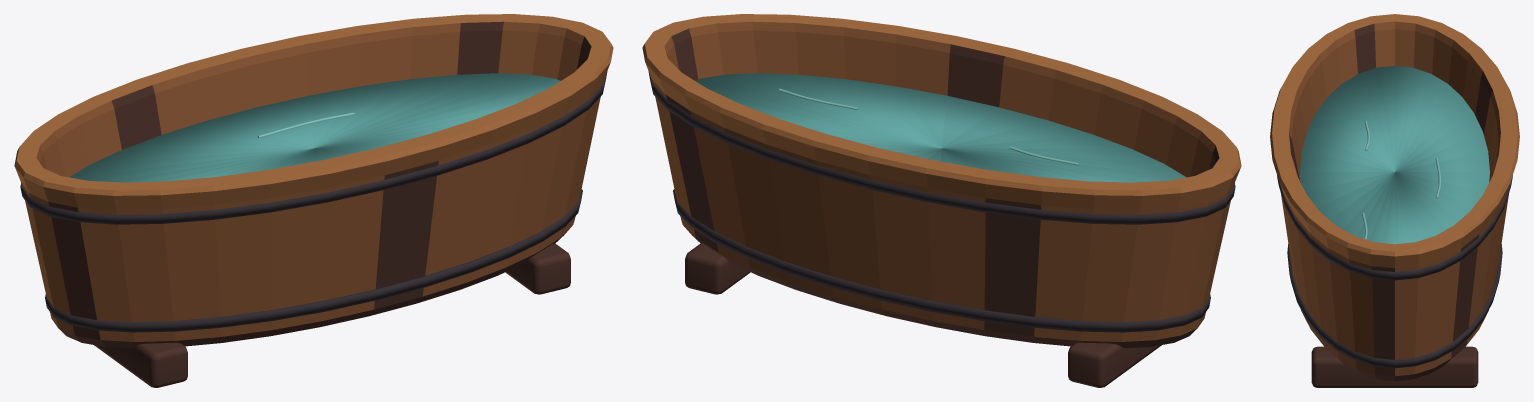
File: bath-tub.glb
3 renders of one model, left to right at view 1: azimuth 30°, elevation 25°; view 2: azimuth 150°, elevation 25°; view 3: azimuth 270°, elevation 25°, orthographic. The views are drawn at different scales.
Parts seen in each view (by area): view 1: bath_tub_placement_Mesh; view 2: bath_tub_placement_Mesh; view 3: bath_tub_placement_Mesh.
Part boxes in pixels (<box>): bath_tub_placement_Mesh: <box>14,14,613,387</box>; bath_tub_placement_Mesh: <box>642,14,1241,387</box>; bath_tub_placement_Mesh: <box>1270,14,1519,387</box>.
Bounding box in the file's own units: 1.7 × 0.565 × 0.75.
